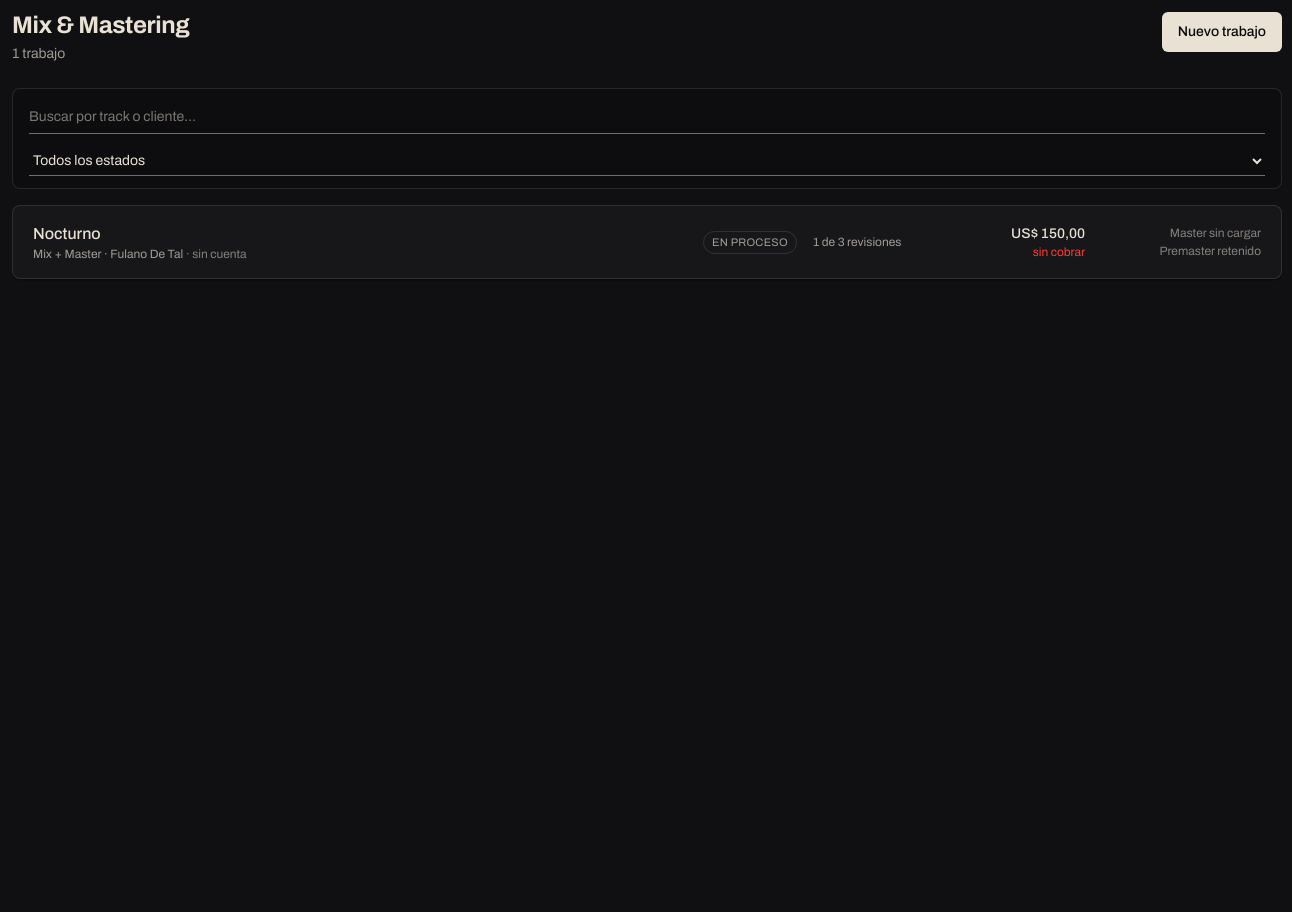
el expediente › se abre como ficha, con las notas enteras y los links como links
The image size is (1292, 912).
Click the text "Nocturno" at (67, 234), box [33, 225, 101, 242]
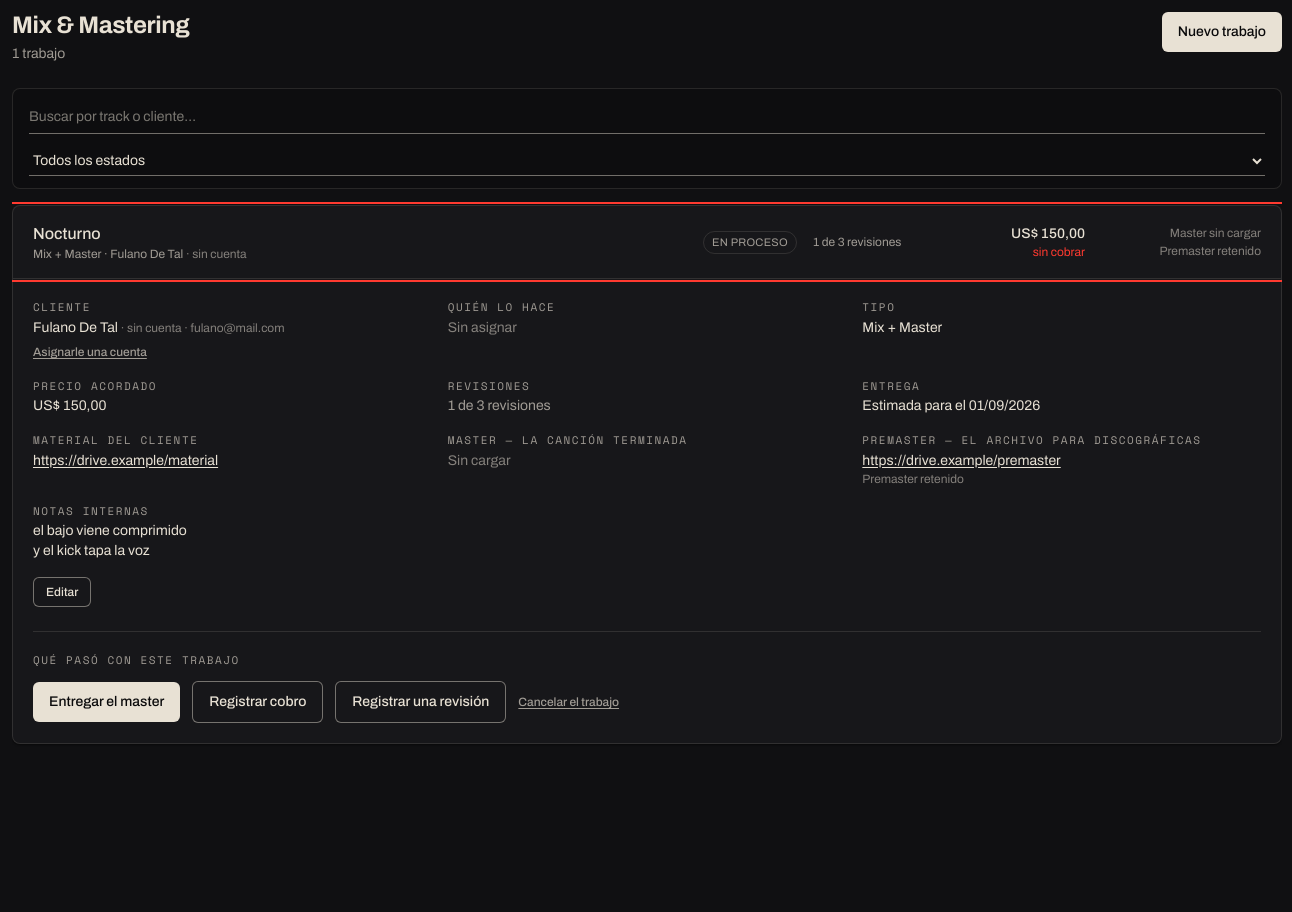
Expected: the text "el bajo viene comprimido y el kick tapa la voz" is shown, [33, 523, 187, 558]
Expected: the link "https://drive.example/material" is shown, [33, 453, 218, 468]
